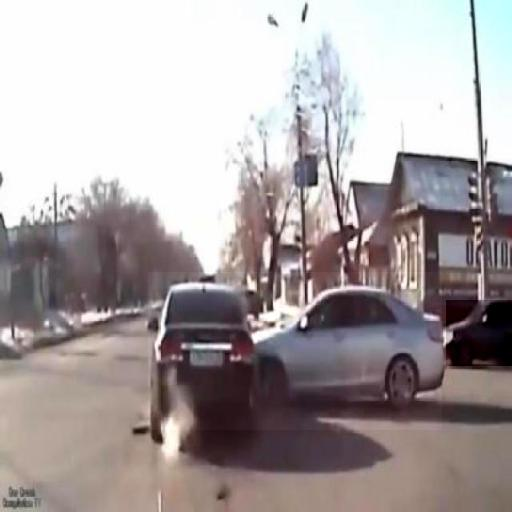小汽车: (446, 300, 512, 366)
小汽车撞小汽车: (148, 272, 442, 430)
